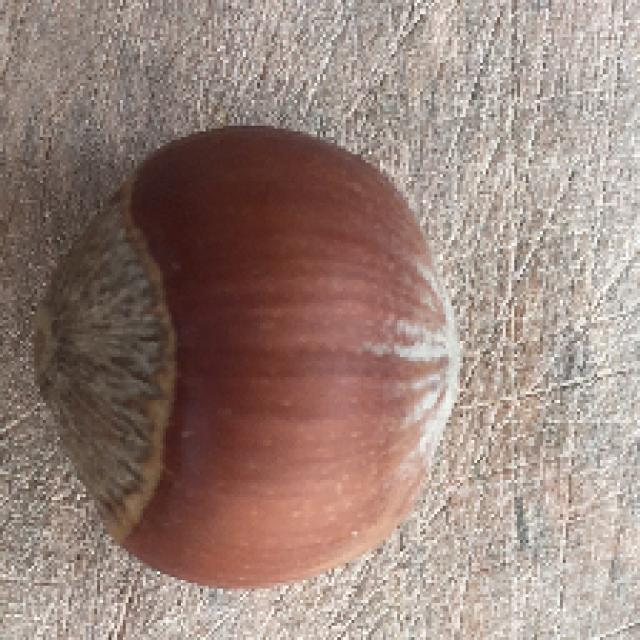DamagedHazelnut: (30, 125, 466, 590)
